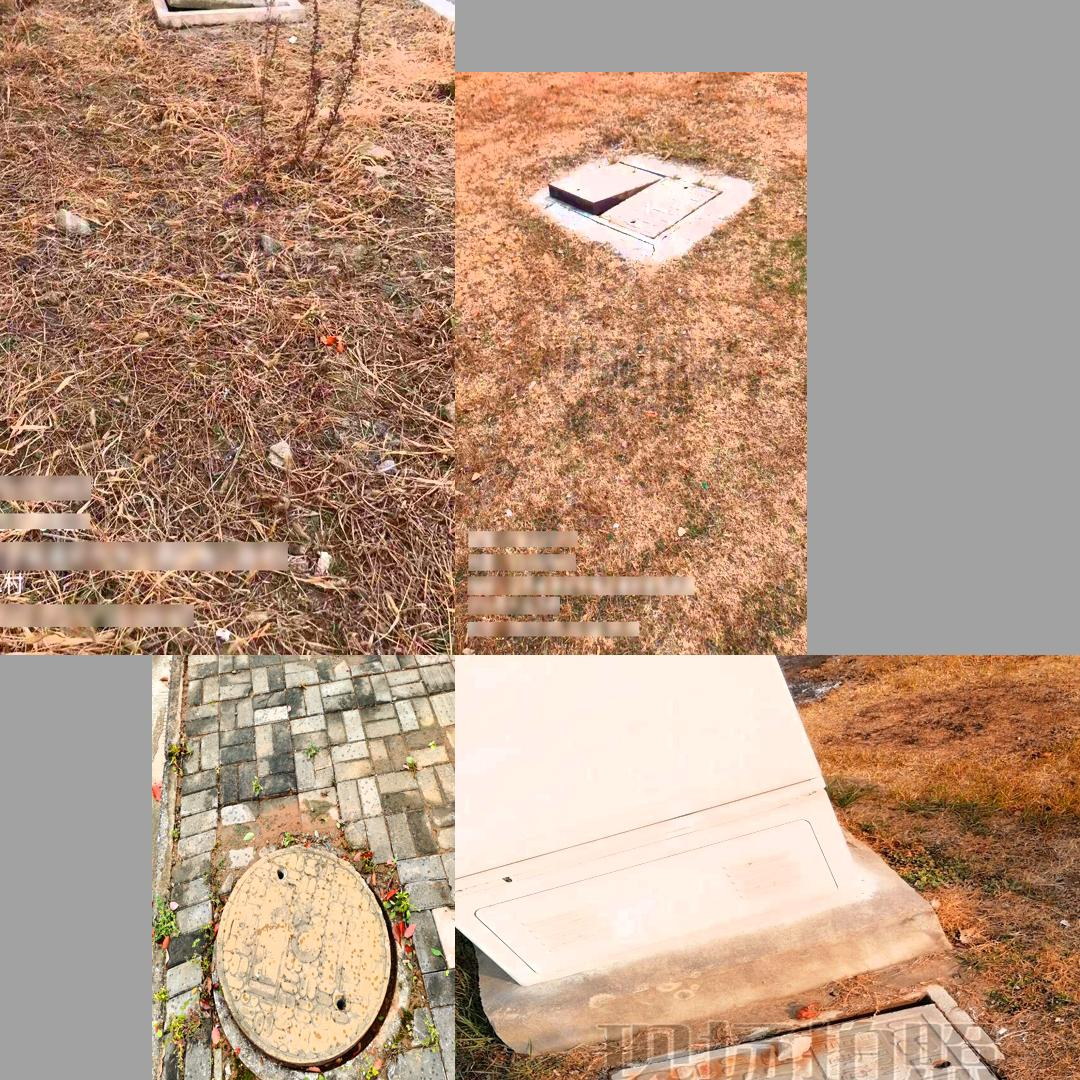uncovered: (211, 843, 411, 1080), (608, 985, 1030, 1080), (546, 158, 723, 246), (147, 0, 303, 31)
